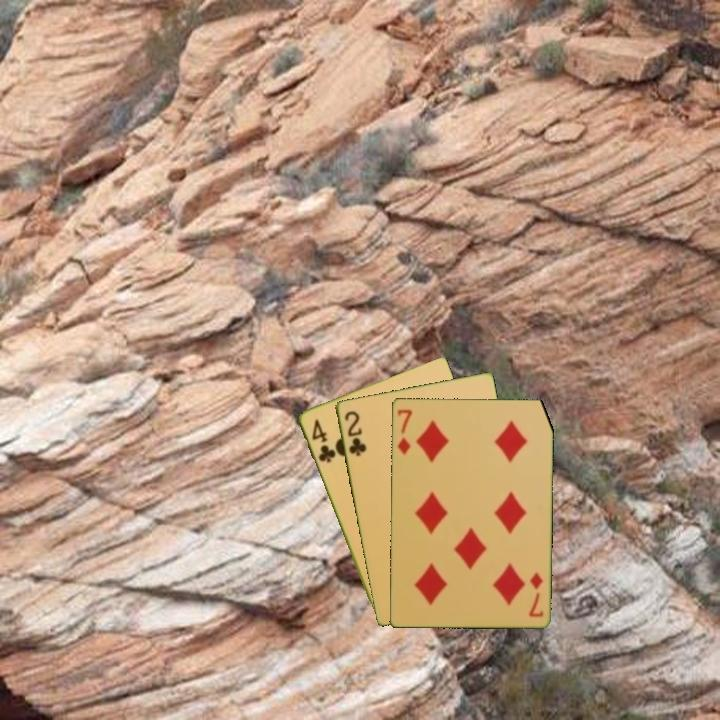2c: (341, 407, 369, 459)
4c: (308, 415, 338, 466)
7d: (525, 569, 546, 620), (394, 405, 414, 458)
